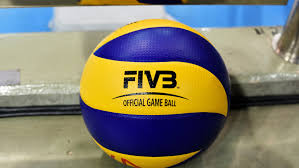ball: (79, 18, 229, 168)
